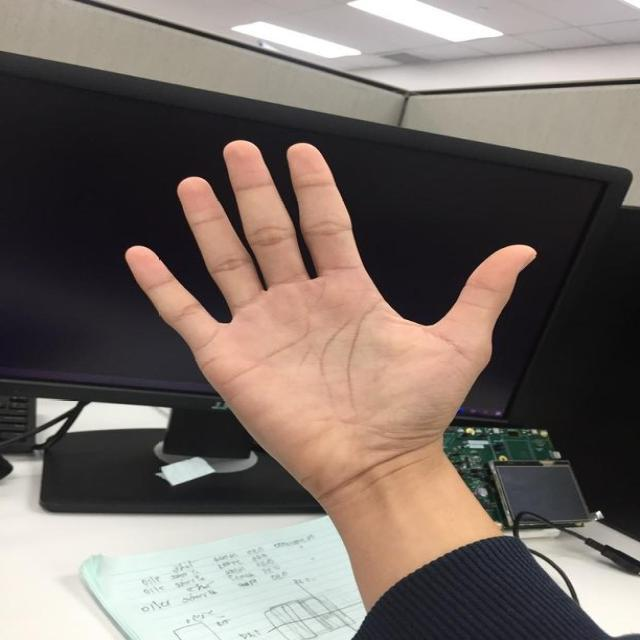hand: (122, 138, 540, 491)
